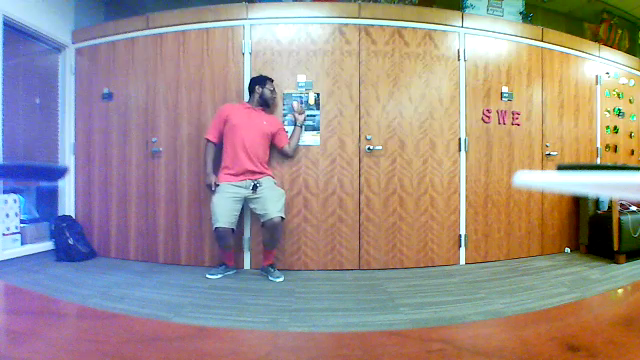peace: (288, 96, 308, 125)
